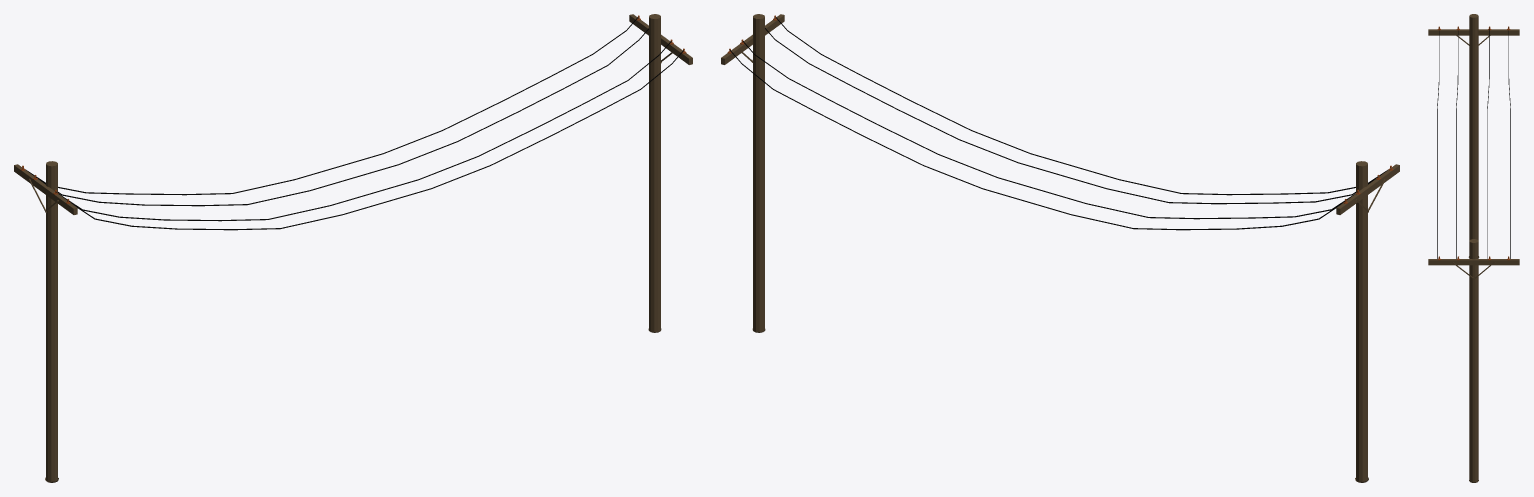
Rendered from utilitypole.fbx.
3 renders of one model, left to right at view 1: azimuth 30°, elevation 25°; view 2: azimuth 150°, elevation 25°; view 3: azimuth 270°, elevation 25°, orthographic. The views are drawn at different scales.
Visible parts, largest first — view 1: utility_pole, electricline; view 2: utility_pole, electricline; view 3: utility_pole, electricline.
Boxes of the visible parts, x1,y1,x2,y2 form: utility_pole: (14, 14, 692, 482); electricline: (25, 17, 683, 230); utility_pole: (721, 14, 1399, 482); electricline: (730, 17, 1388, 230); utility_pole: (1428, 14, 1519, 482); electricline: (1437, 29, 1510, 258).
Size of the model in its own units: 2331 by 1136 by 388.
